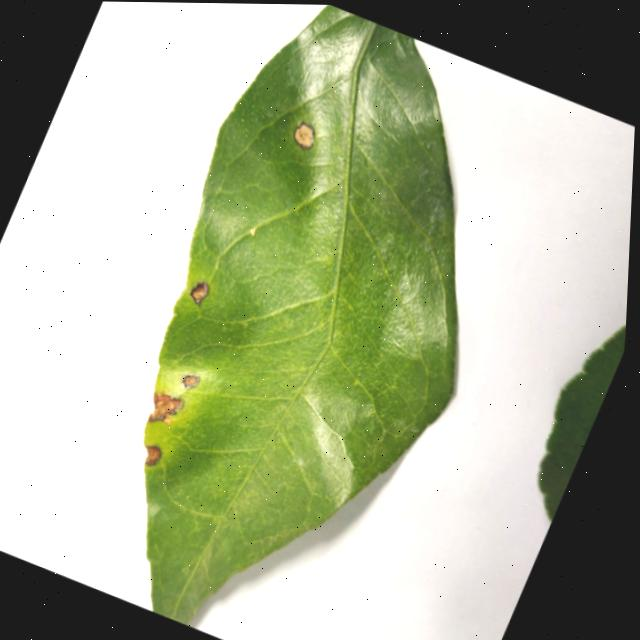antracnose: (144, 5, 456, 623), (148, 394, 181, 421), (293, 122, 313, 149), (189, 281, 208, 306), (145, 446, 160, 466), (182, 375, 198, 387)
